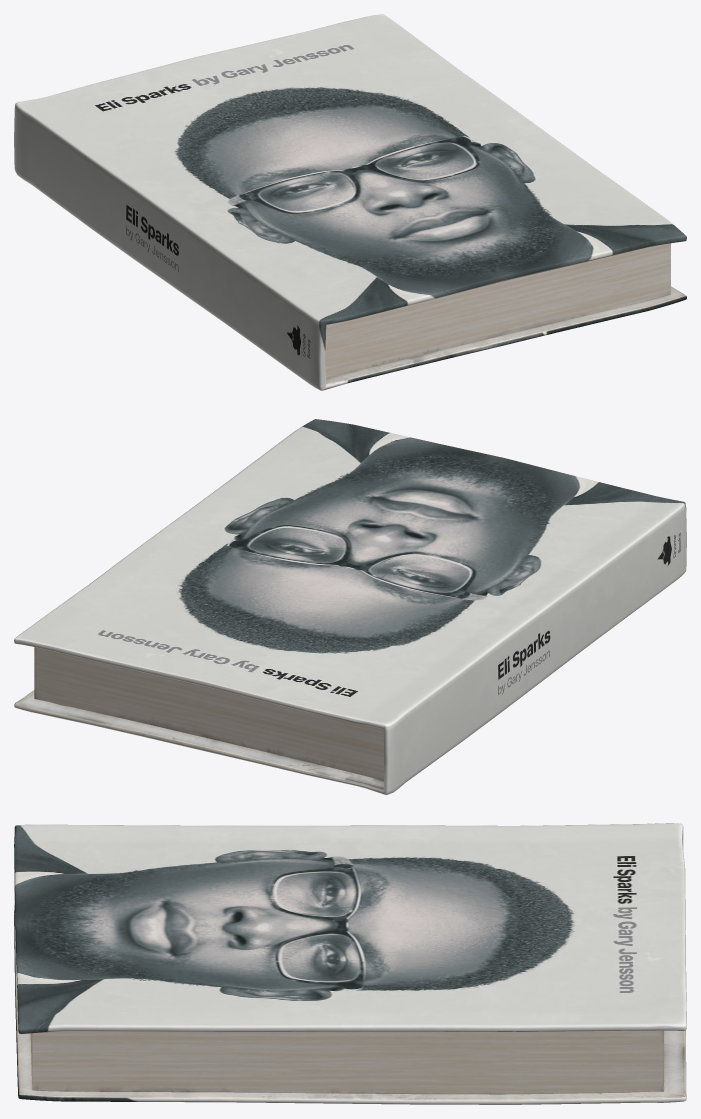
The model's file is book.glb.
3 renders of one model, top to bottom at view 1: azimuth 30°, elevation 25°; view 2: azimuth 150°, elevation 25°; view 3: azimuth 270°, elevation 25°, orthographic. The views are drawn at different scales.
Parts seen in each view (by area): view 1: Book; view 2: Book; view 3: Book.
Part boxes in pixels (bbox=[...]): Book: bbox=[14, 14, 686, 390]; Book: bbox=[14, 419, 686, 794]; Book: bbox=[14, 823, 686, 1104].
Bounding box in the file's own units: 18.5 × 3.58 × 25.97.
1 material, 1 textured.
